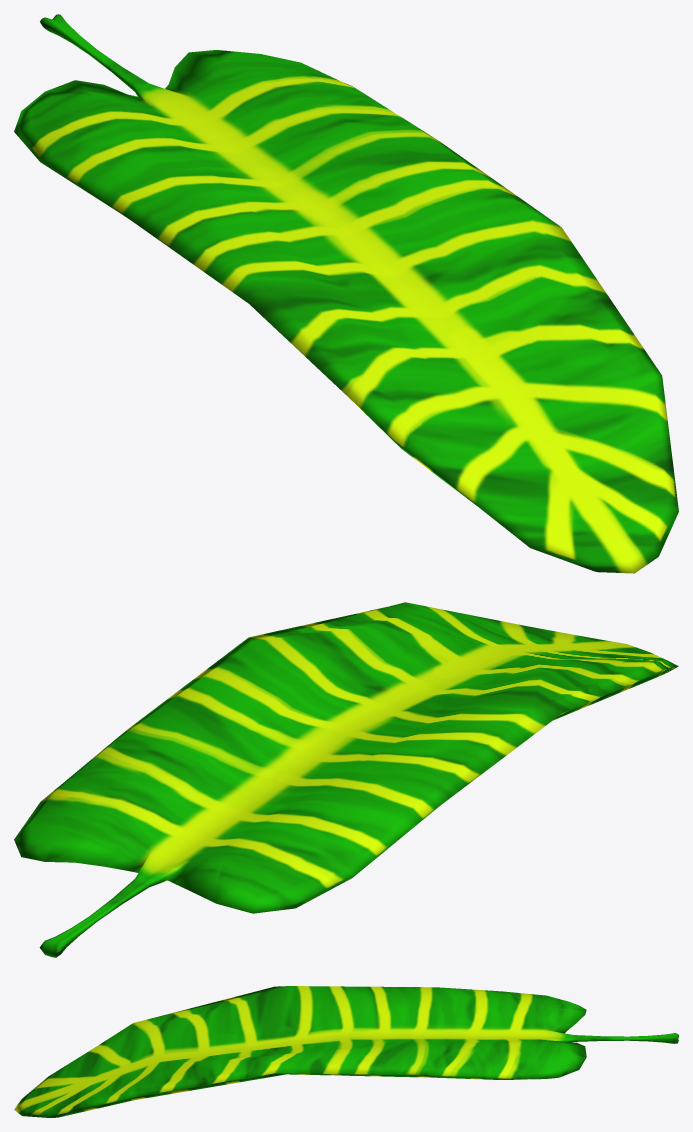
The model's file is LongLeaf1.fbx.
3 renders of one model, top to bottom at view 1: azimuth 30°, elevation 25°; view 2: azimuth 150°, elevation 25°; view 3: azimuth 270°, elevation 25°, orthographic. The views are drawn at different scales.
Parts seen in each view (by area): view 1: LongLeaf1; view 2: LongLeaf1; view 3: LongLeaf1.
Boxes of the visible parts, x1=… form: LongLeaf1: x1=14, y1=14, x2=678, y2=573; LongLeaf1: x1=14, y1=602, x2=678, y2=957; LongLeaf1: x1=14, y1=986, x2=678, y2=1117.
Bounding box in the file's own units: 277 × 128 × 898.
